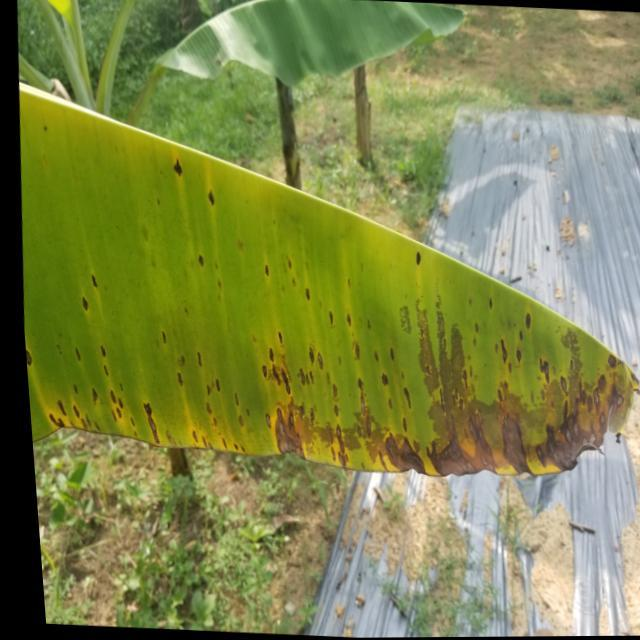Early_rust: (20, 93, 640, 534)
